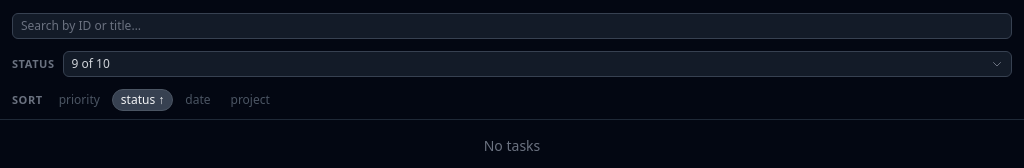
Test: TaskList › sort behavior › clicking a sort button sets it to asc and shows '↑'
Step 1. Click the button "priority" → (79, 100), box [51,89,108,111]
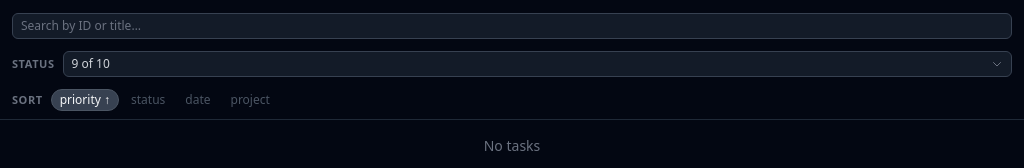
Result: the button "priority ↑" is shown at [51,89,119,111]
